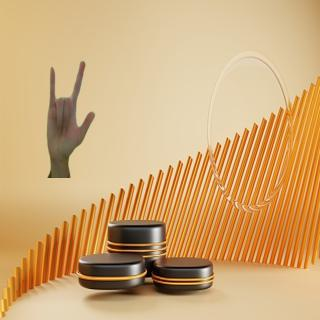ILY: (46, 61, 95, 162)
